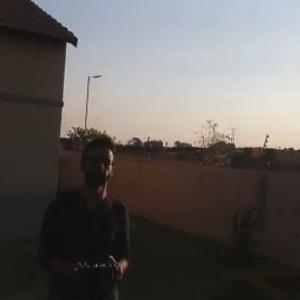follow: (31, 133, 135, 299)
